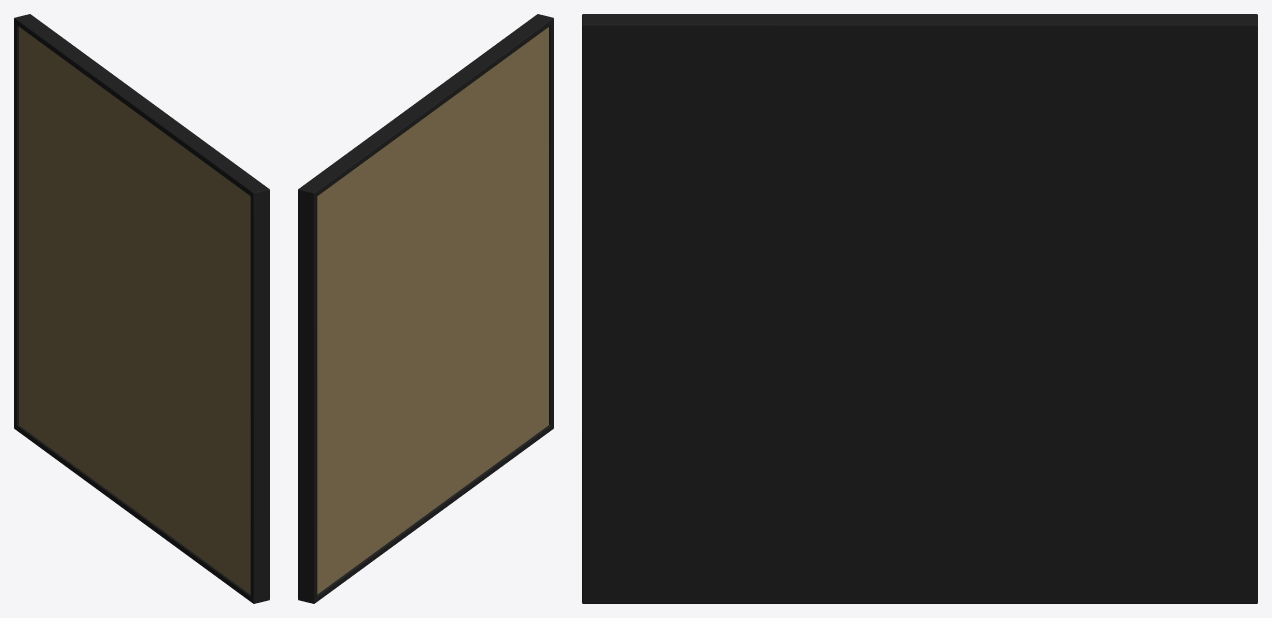
File: painting.obj
The picture shows the model from 3 angles, left to right: view 1: azimuth 30°, elevation 25°; view 2: azimuth 150°, elevation 25°; view 3: azimuth 270°, elevation 25°; orthographic projection. The views are drawn at different scales.
Parts seen in each view (by area): view 1: Abstract-Painting_Monumental-Figure; view 2: Abstract-Painting_Monumental-Figure; view 3: Abstract-Painting_Monumental-Figure.
Part boxes in pixels (x1,y1,x2,y2): Abstract-Painting_Monumental-Figure: (14, 14, 269, 603); Abstract-Painting_Monumental-Figure: (298, 14, 553, 603); Abstract-Painting_Monumental-Figure: (582, 14, 1257, 603).
Size of the model in its own units: 0.1993 by 4.73 by 5.
